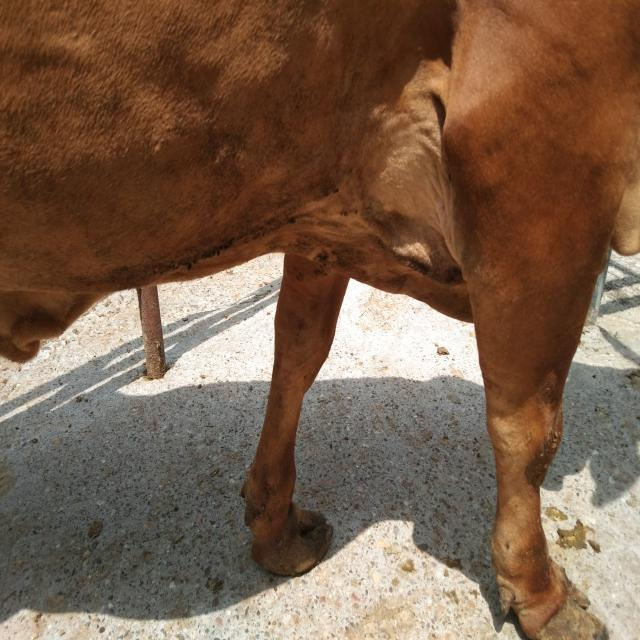Hoof: (249, 500, 333, 577), (494, 559, 568, 639)
